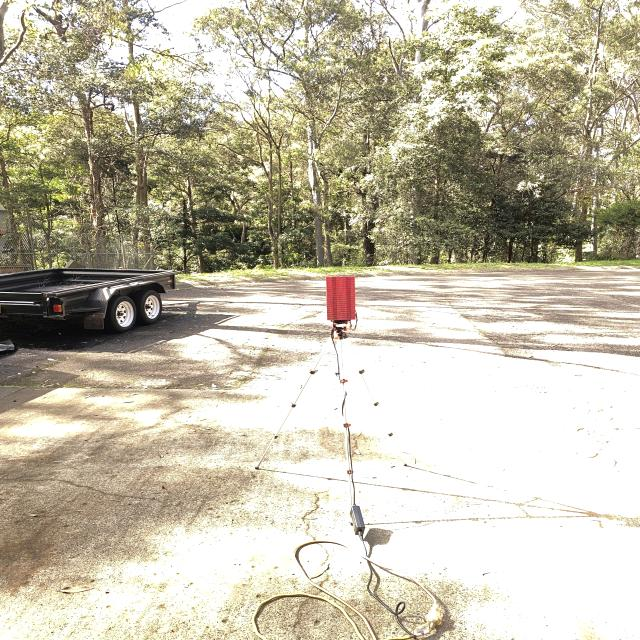matrix: (318, 272, 363, 330)
